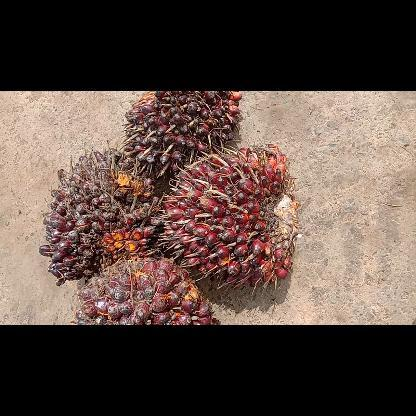Kurang masak: (159, 140, 303, 298), (38, 146, 168, 286)
TBS mentah: (120, 92, 244, 178), (72, 254, 223, 324)
